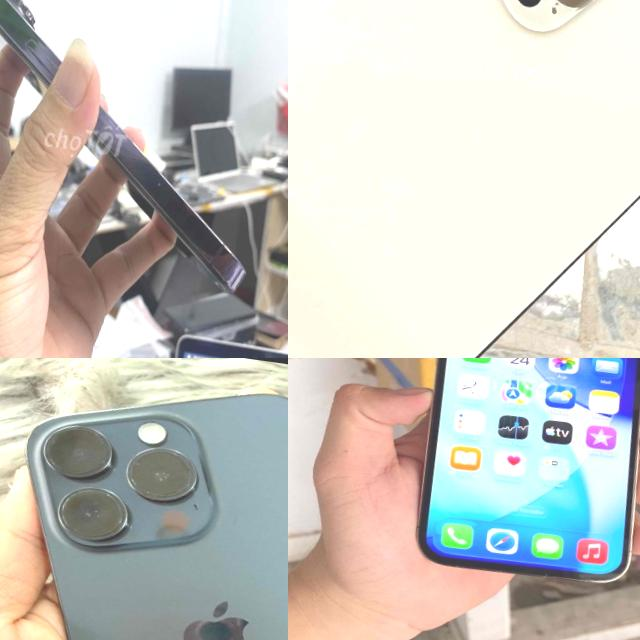gen_12_13: (288, 0, 640, 358), (409, 358, 640, 595)
gen_14: (88, 107, 245, 291), (0, 0, 60, 91)
gen_15: (0, 358, 288, 640)
